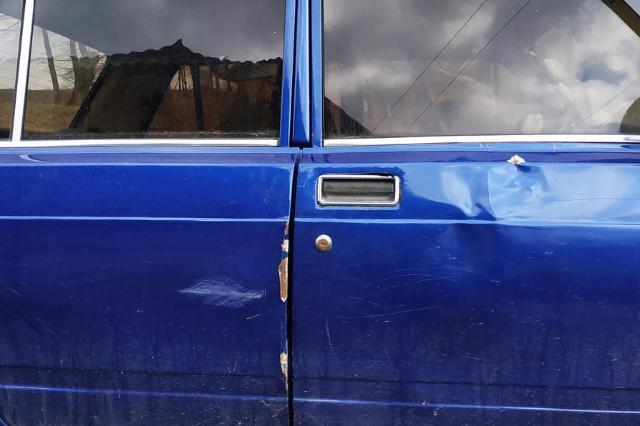Door: (96, 225, 597, 422)
